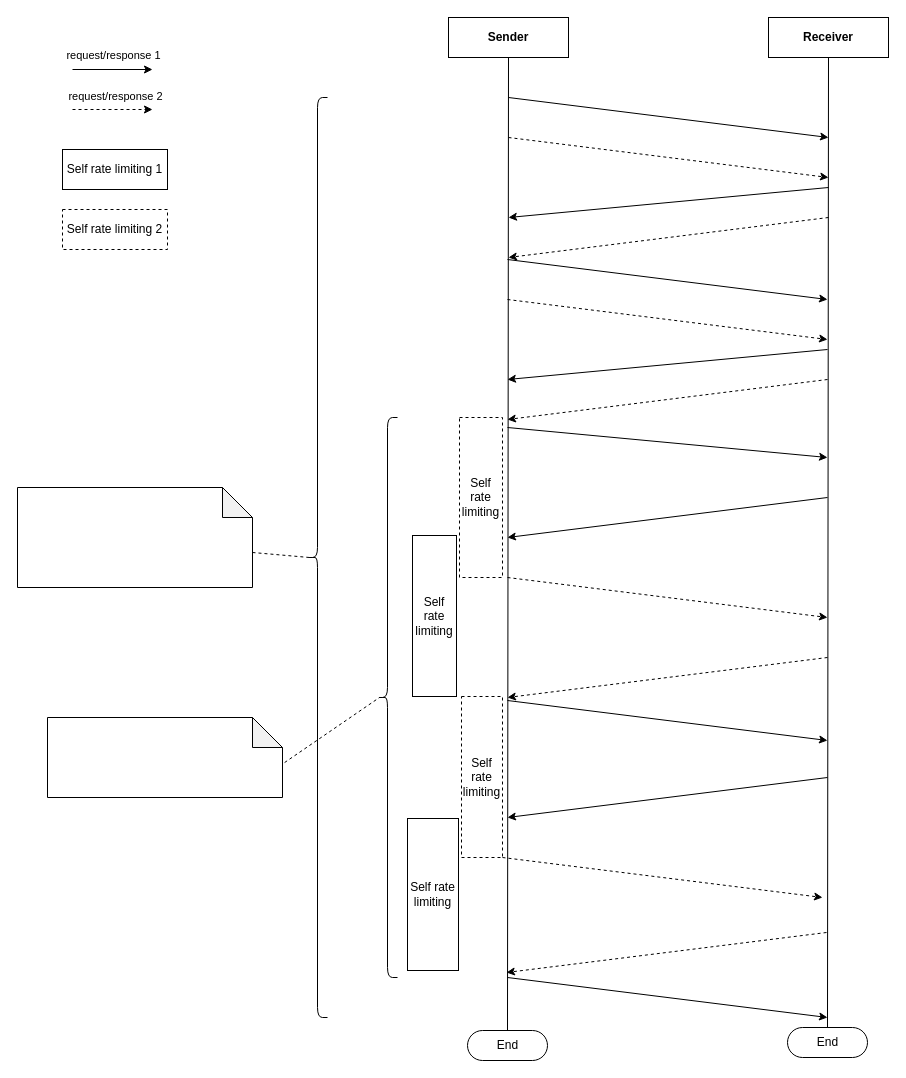
Some shapes in this 906 by 1078 pixel diagram are drawn without their labels. Here are the shapes that lost their labels. From the top down, the centre of each, then its label:
At (x=134, y=537): "sender maintains two (or fewer) active requests at a time".
At (x=164, y=757): "self rate-limiting is triggered".
